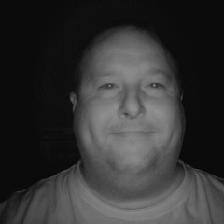happy: (55, 17, 201, 195)
